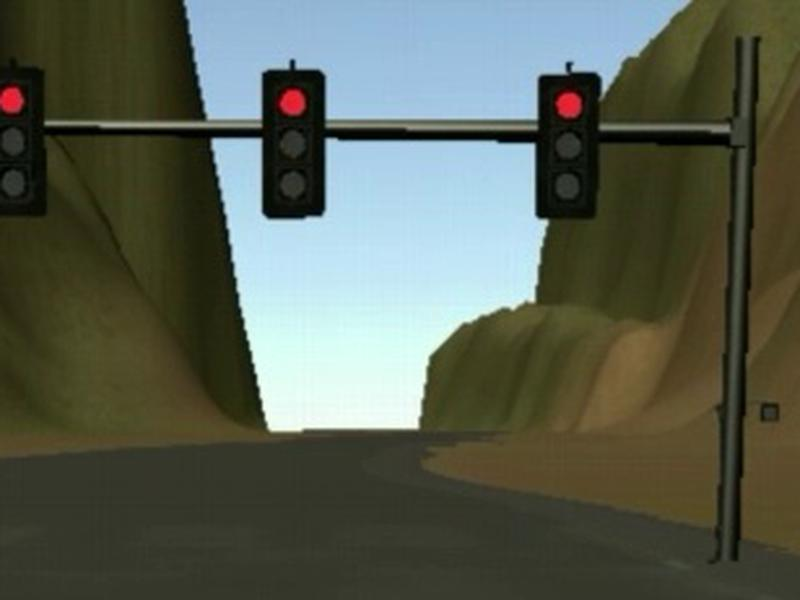Red: (262, 69, 327, 218), (535, 72, 600, 218), (1, 67, 45, 216)
